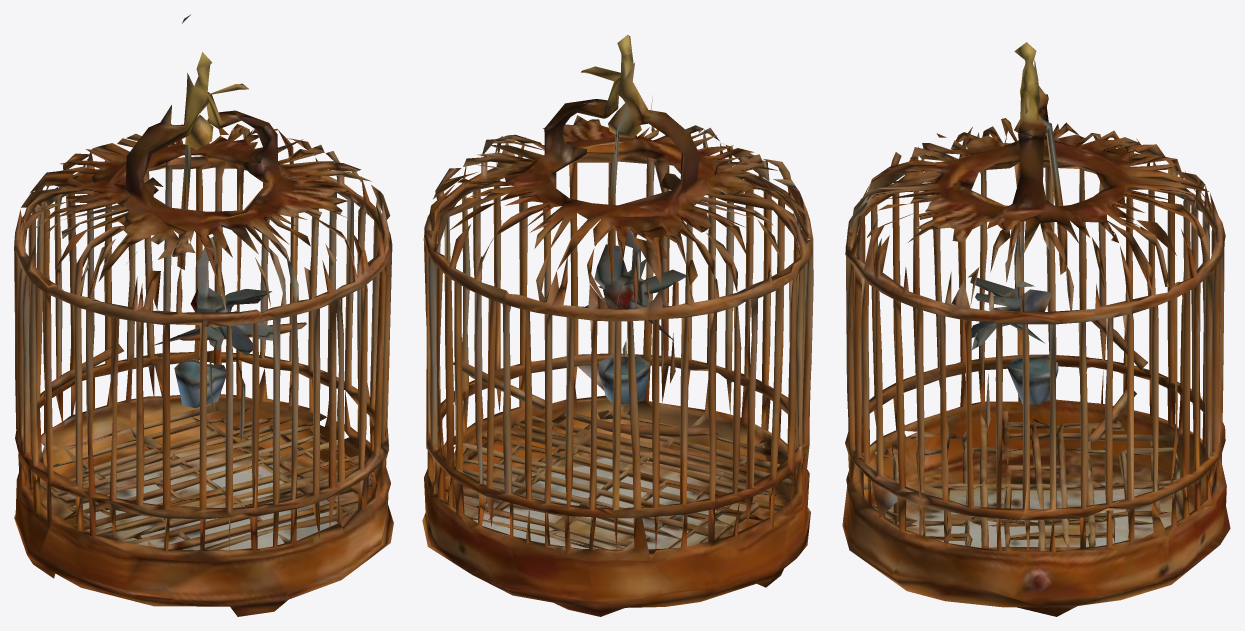
File: niaolong.glb
The picture shows the model from 3 angles, left to right: view 1: azimuth 30°, elevation 25°; view 2: azimuth 150°, elevation 25°; view 3: azimuth 270°, elevation 25°; orthographic projection. The views are drawn at different scales.
Parts seen in each view (by area): view 1: tripo_node_b56c9a01-3be8-43e7-80e4-65506a5c52cc; view 2: tripo_node_b56c9a01-3be8-43e7-80e4-65506a5c52cc; view 3: tripo_node_b56c9a01-3be8-43e7-80e4-65506a5c52cc.
Part boxes in pixels (x1,y1,x2,y2): tripo_node_b56c9a01-3be8-43e7-80e4-65506a5c52cc: [14, 14, 393, 616]; tripo_node_b56c9a01-3be8-43e7-80e4-65506a5c52cc: [422, 34, 813, 616]; tripo_node_b56c9a01-3be8-43e7-80e4-65506a5c52cc: [842, 42, 1230, 616].
Size of the model in its own units: 0.6688 by 1 by 0.6656.
1 material, 1 textured.
